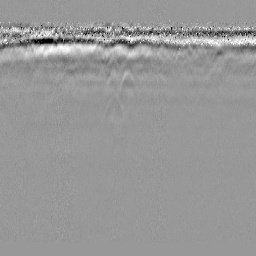cavity: (118, 67, 138, 96)
